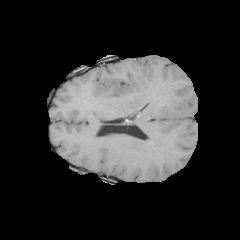glioma: (98, 78, 136, 100)
